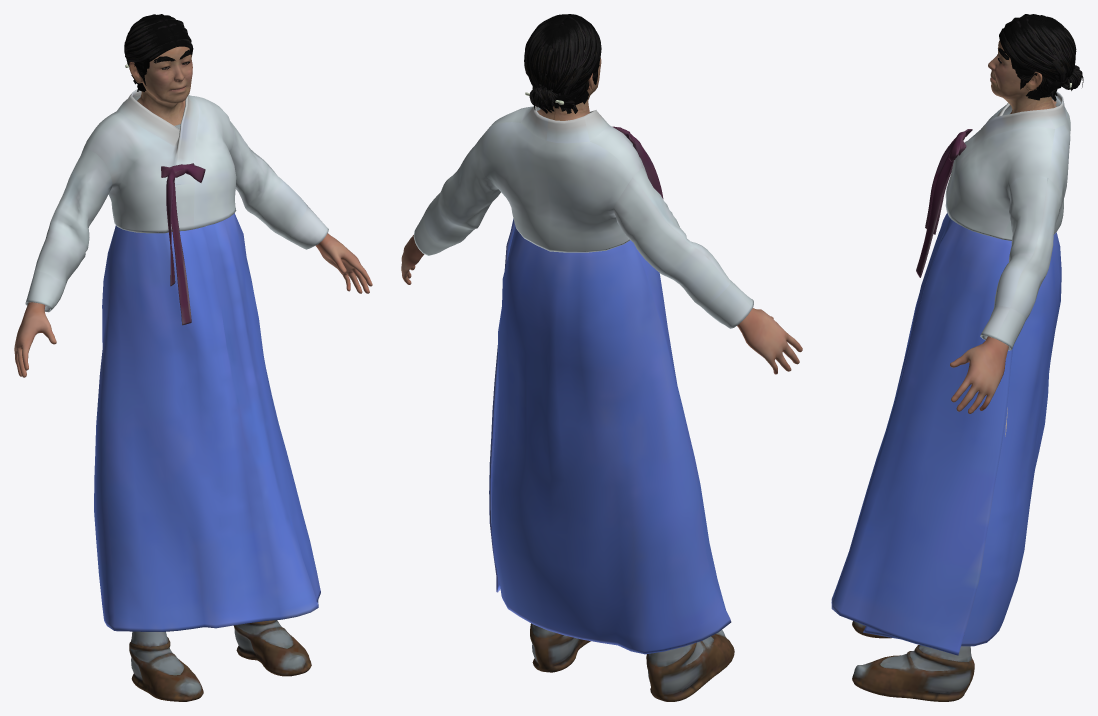
The model's file is jumo3.fbx.
3 views of the same model, side by side, from view 1: azimuth 30°, elevation 25°; view 2: azimuth 150°, elevation 25°; view 3: azimuth 270°, elevation 25° (orthographic). The views are drawn at different scales.
Parts seen in each view (by area): view 1: NPC_Vendor_FabricShop_Mesh_0; view 2: NPC_Vendor_FabricShop_Mesh_0; view 3: NPC_Vendor_FabricShop_Mesh_0.
Part boxes in pixels (x1,y1,x2,y2): NPC_Vendor_FabricShop_Mesh_0: [14, 14, 372, 701]; NPC_Vendor_FabricShop_Mesh_0: [401, 14, 802, 701]; NPC_Vendor_FabricShop_Mesh_0: [831, 14, 1083, 701].
Bounding box in the file's own units: 98.14 × 168 × 58.82.
2 materials, 2 textured.
